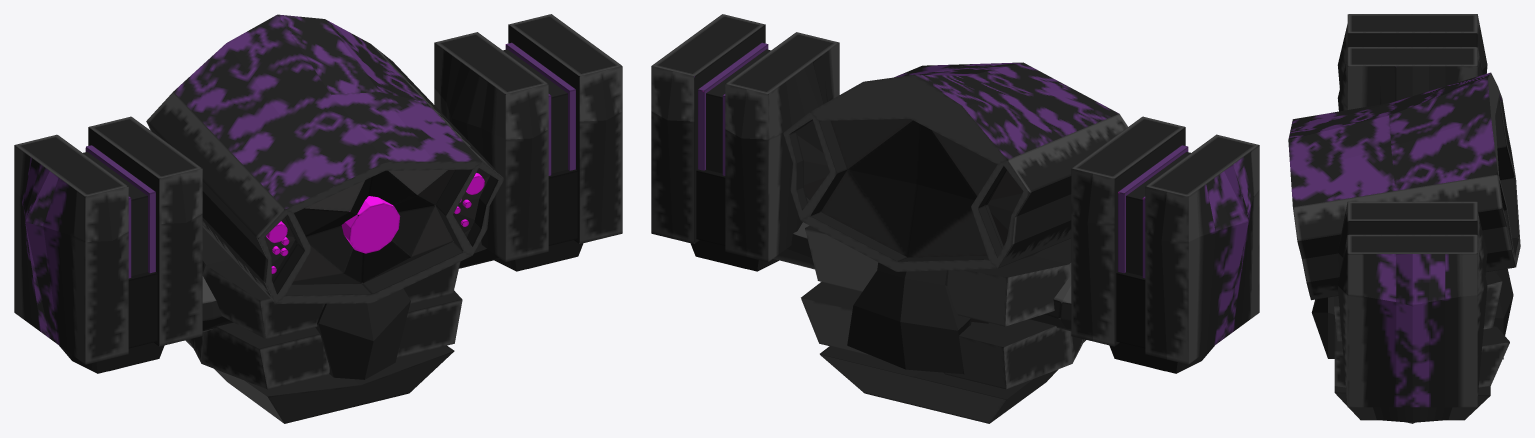
File: boss.fbx
3 views of the same model, side by side, from view 1: azimuth 30°, elevation 25°; view 2: azimuth 150°, elevation 25°; view 3: azimuth 270°, elevation 25° (orthographic). The views are drawn at different scales.
Visible parts, largest first — view 1: helm, cuboid_5, cuboid, cuboid_15, cuboid_6, cuboid_13, cuboid_3, center, cuboid_14, cuboid_7, cuboid_8, cuboid_16 (+5 smaller); view 2: helm, cuboid, cuboid_5, cuboid_15, cuboid_6, cuboid_13, cuboid_2, cuboid_14, cuboid_7, cuboid_16, cuboid_8, cuboid_11 (+5 smaller); view 3: helm, cuboid_13, cuboid_6, cuboid_15, cuboid_5, cuboid, cuboid_19, cuboid_3, cuboid_2.
Boxes of the visible parts, x1,y1,x2,y2 form: helm: (146,14,504,303); cuboid_5: (14,134,128,364); cuboid: (185,227,462,423); cuboid_15: (434,32,548,261); cuboid_6: (88,116,202,346); cuboid_13: (508,14,622,243); cuboid_3: (315,288,410,379); center: (341,196,400,253); cuboid_14: (548,169,577,245); cuboid_7: (128,272,157,348); cuboid_8: (73,152,149,275); cuboid_16: (503,49,569,173); helm: (783,62,1127,271); cuboid: (801,225,1085,423); cuboid_5: (1145,134,1259,364); cuboid_15: (725,32,839,261); cuboid_6: (1071,116,1185,346); cuboid_13: (651,14,765,243); cuboid_2: (847,257,971,373); cuboid_14: (696,169,725,245); cuboid_7: (1116,272,1145,348); cuboid_16: (704,49,770,173); cuboid_8: (1124,152,1190,275); cuboid_11: (1118,145,1188,273); helm: (1288,72,1520,300); cuboid_13: (1337,234,1487,407); cuboid_6: (1337,47,1482,111); cuboid_15: (1337,201,1487,275); cuboid_5: (1337,14,1487,88); cuboid: (1334,271,1509,420); cuboid_19: (1373,407,1452,423); cuboid_3: (1311,296,1335,358); cuboid_2: (1493,269,1513,359).
Bounding box in the file's own units: 298 × 166 × 112.
1 material, 1 textured.
